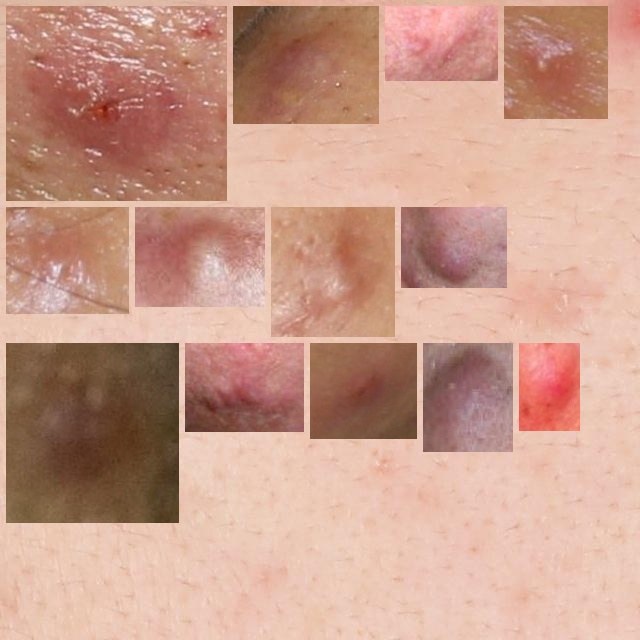nodule: (14, 14, 219, 193), (14, 351, 171, 515), (241, 14, 371, 116), (279, 215, 387, 337), (14, 215, 121, 306), (143, 215, 257, 299), (512, 14, 600, 111), (193, 351, 296, 424), (318, 351, 409, 431), (431, 351, 505, 444), (409, 215, 499, 280), (393, 14, 490, 73), (527, 351, 572, 423)
